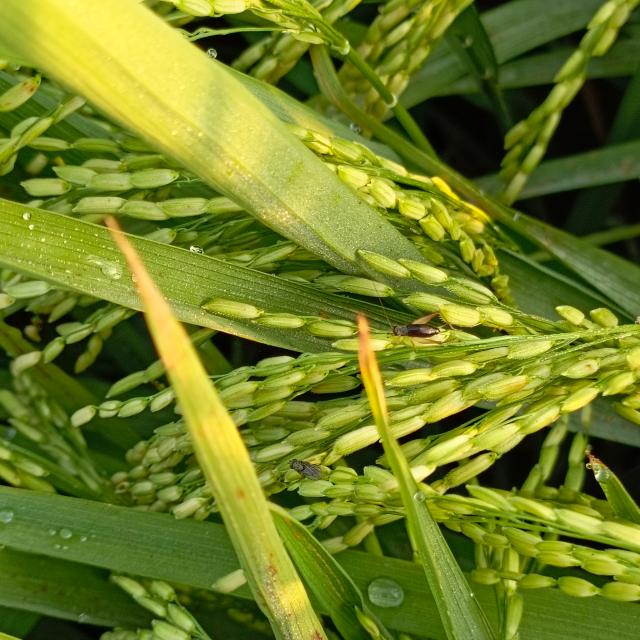Brown spot: (105, 212, 220, 392)
Leaf scald: (282, 449, 330, 484)
